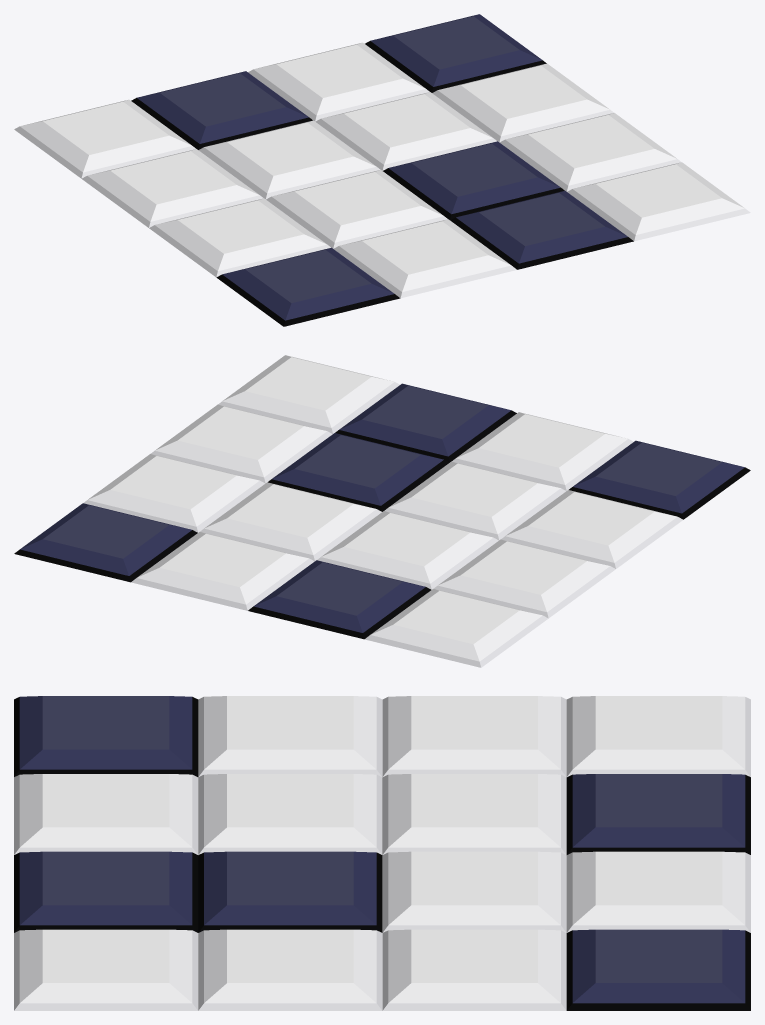
The picture shows the model from 3 angles, top to bottom: view 1: azimuth 30°, elevation 25°; view 2: azimuth 150°, elevation 25°; view 3: azimuth 270°, elevation 25°; orthographic projection. The views are drawn at different scales.
Bounding box in the file's own units: 128 × 3 × 128.
1 material, 1 textured.
